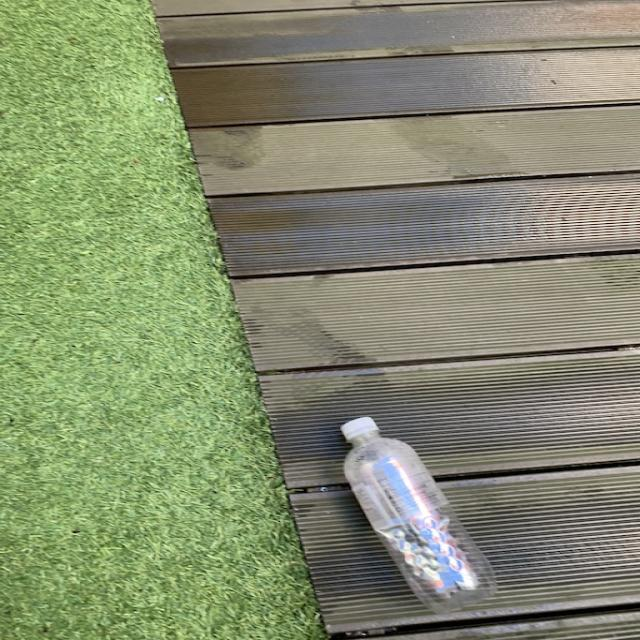Waste: (345, 419, 498, 615)
